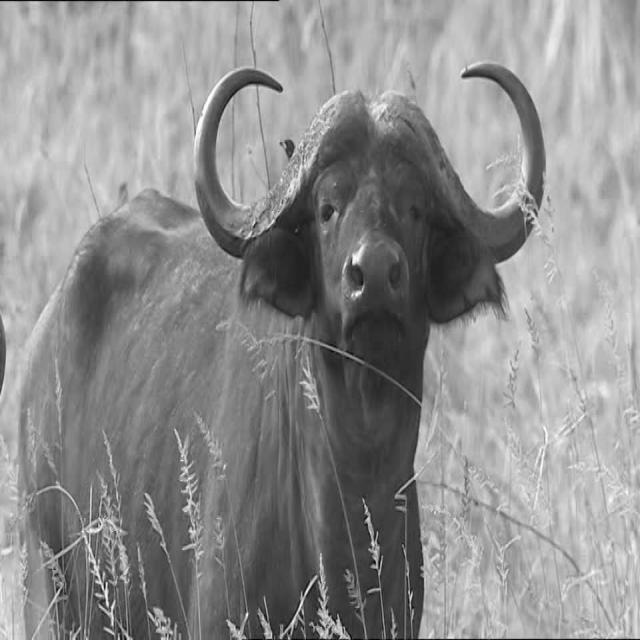Buffalo: (16, 66, 546, 640)
